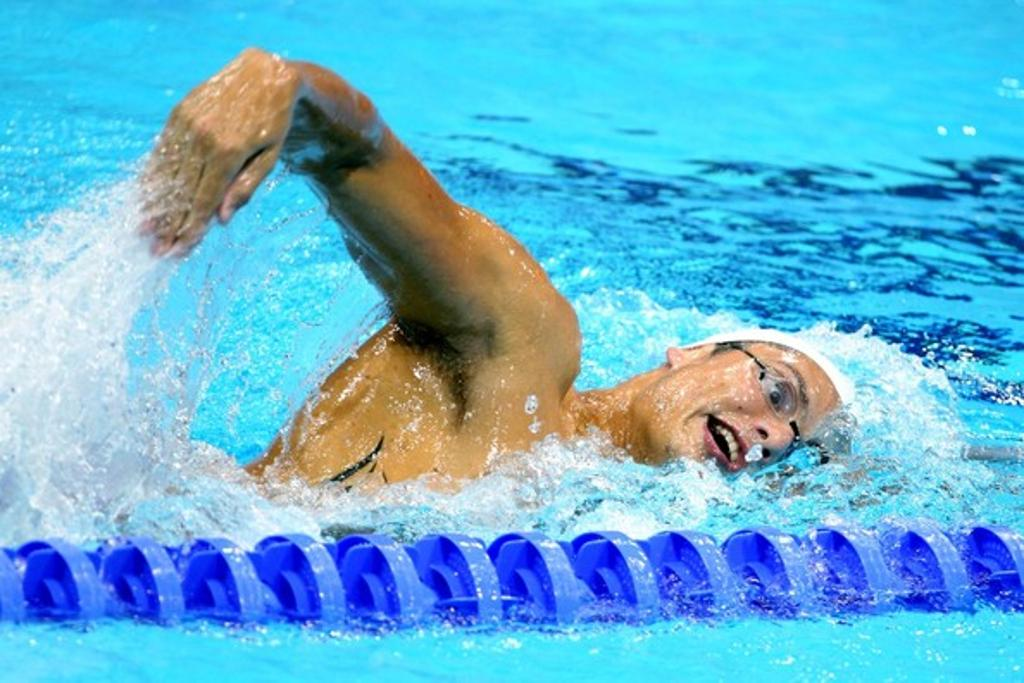face: (658, 354, 844, 488)
